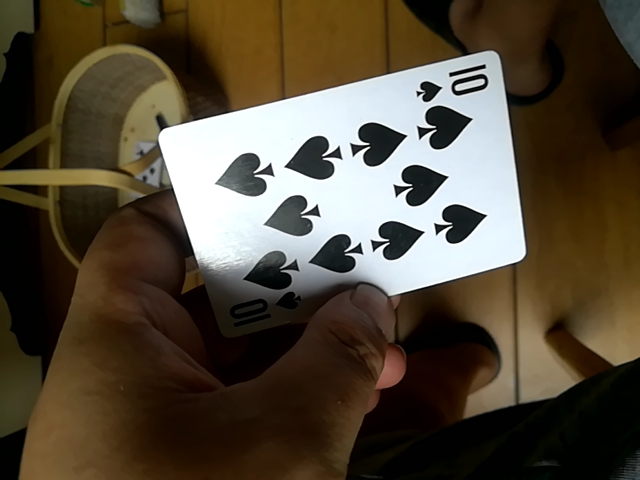ht 10: (160, 47, 527, 331)
